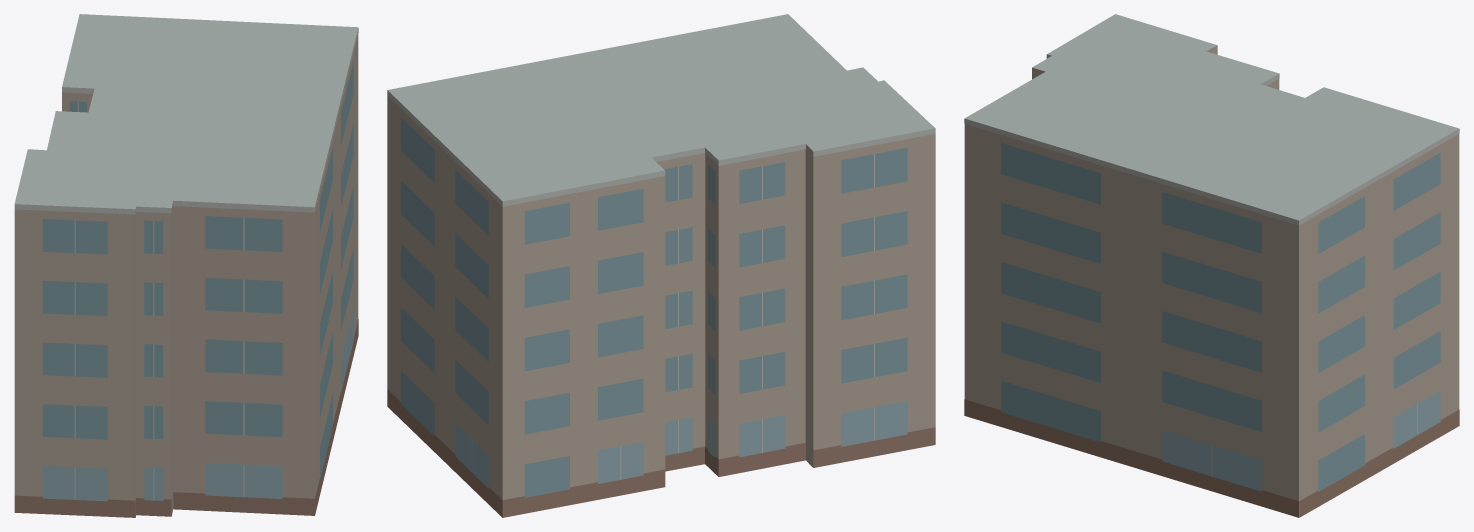
Rendered from survey-upis-32622074.glb.
The picture shows the model from 3 angles, left to right: view 1: azimuth 30°, elevation 25°; view 2: azimuth 150°, elevation 25°; view 3: azimuth 270°, elevation 25°; orthographic projection. The views are drawn at different scales.
Parts seen in each view (by area): view 1: survey-upis-32622074.tmp; view 2: survey-upis-32622074.tmp; view 3: survey-upis-32622074.tmp.
Part boxes in pixels (box(x1,y1,x2,y2)): survey-upis-32622074.tmp: box(14, 14, 358, 517); survey-upis-32622074.tmp: box(387, 14, 935, 517); survey-upis-32622074.tmp: box(964, 14, 1459, 517).
Bounding box in the file's own units: 21.31 × 14.3 × 21.58.
